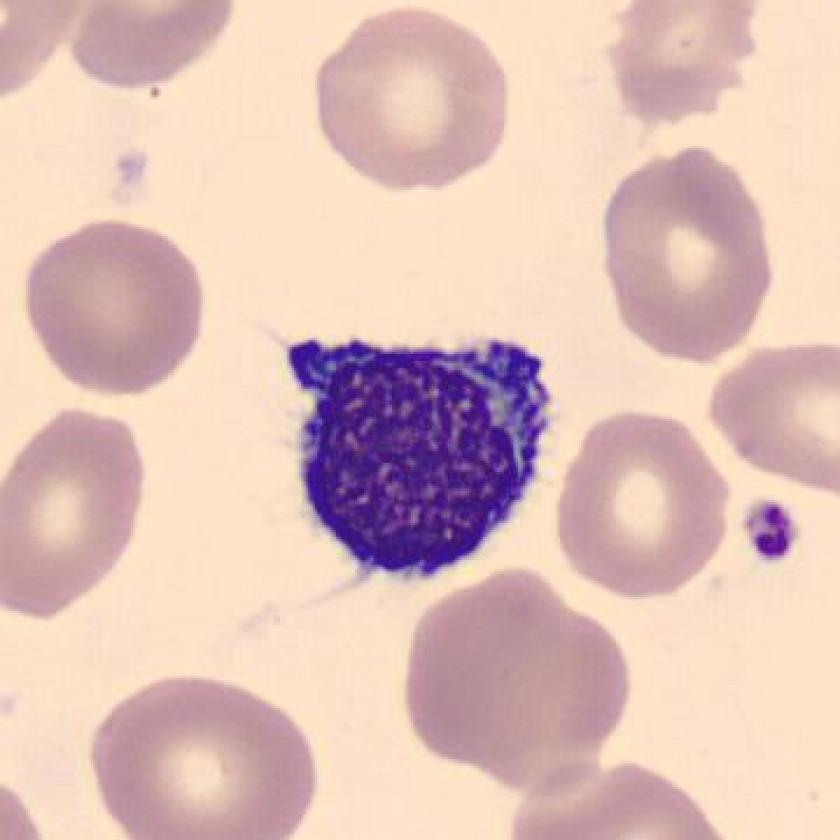lymphocyte: (260, 302, 566, 591)
